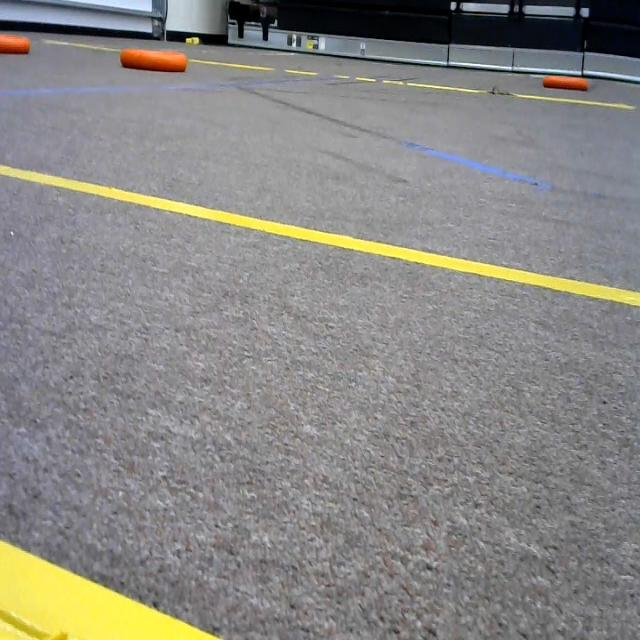note: (115, 40, 198, 74), (542, 70, 594, 100), (0, 33, 36, 67)
